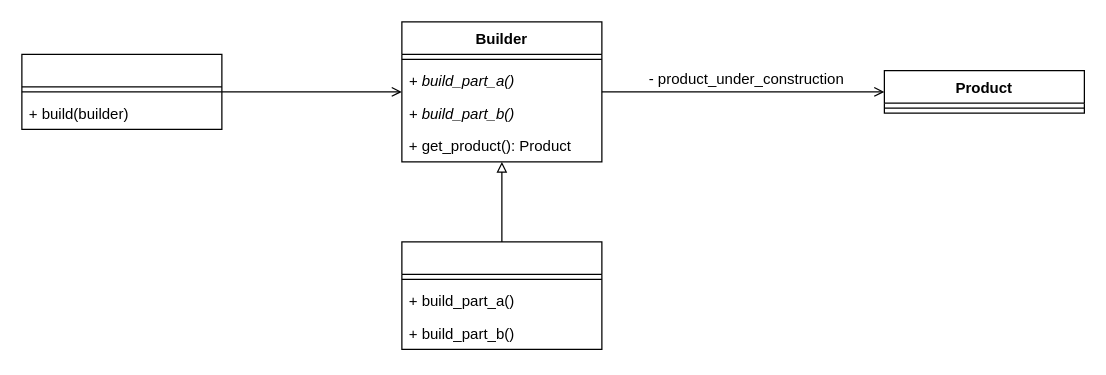
Some shapes in this 1106 by 375 pixel diagram are drawn without their labels. The shapes that lost their labels are listed below. From the top down, each one's box as (x1, y1, x2, y2) in pixels, then its label:
(21, 53, 222, 129): Director
(401, 241, 602, 349): ConcreteBuilder
